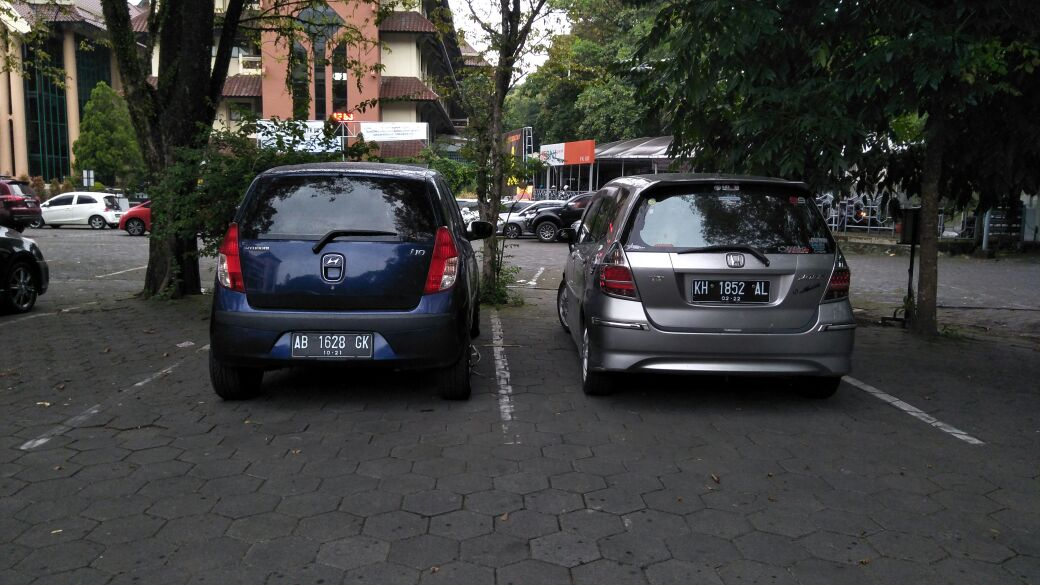plate: (289, 329, 374, 360), (691, 280, 771, 302)
